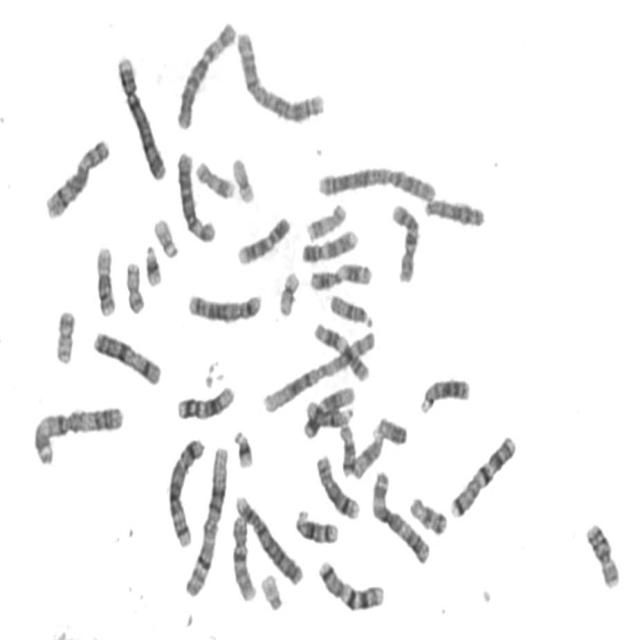A1: (260, 324, 378, 416), (181, 438, 232, 599)
A2: (233, 24, 328, 124), (314, 159, 439, 203)
A3: (369, 464, 433, 566), (30, 399, 127, 466)
B4: (114, 48, 170, 182), (232, 488, 306, 588)
B5: (164, 430, 208, 550), (185, 286, 265, 324)
C10: (388, 196, 424, 284), (228, 508, 260, 604)
C11: (310, 317, 372, 383), (307, 257, 375, 292)
C12: (302, 380, 358, 439), (174, 380, 237, 422)
C6: (173, 14, 239, 131), (174, 144, 219, 244)
C7: (447, 428, 520, 520), (316, 554, 388, 612)
C8: (42, 132, 113, 220), (314, 449, 362, 521)
C9: (235, 210, 294, 266), (299, 224, 360, 264)
D13: (417, 370, 473, 416), (421, 192, 488, 229)
D14: (292, 503, 342, 546), (302, 393, 357, 431)
D15: (326, 288, 376, 328), (349, 426, 386, 480)
E16: (582, 517, 622, 590), (92, 240, 120, 319)
E17: (303, 196, 349, 243), (192, 154, 238, 201)
E18: (407, 490, 450, 537), (336, 418, 358, 478)
F19: (229, 151, 257, 205), (276, 264, 302, 318)
F20: (52, 304, 78, 366), (122, 254, 148, 316)
G21: (230, 424, 256, 471), (142, 239, 164, 288)
G22: (151, 212, 181, 260), (258, 568, 286, 612)
X: (90, 325, 165, 387)
Y: (372, 411, 410, 447)
